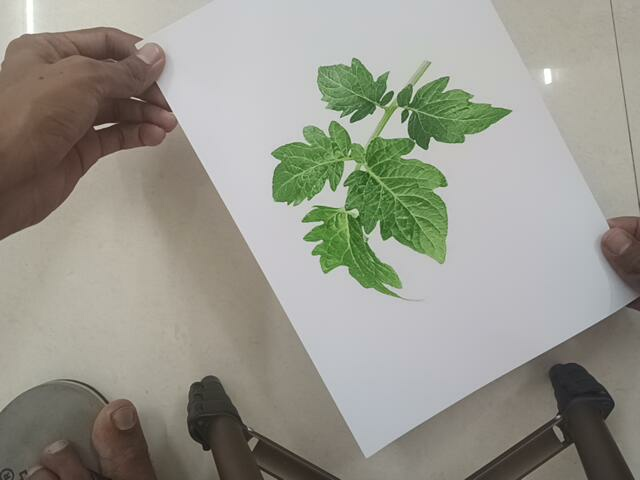Tomamto_Leaf_Healthy: (253, 45, 522, 298)
